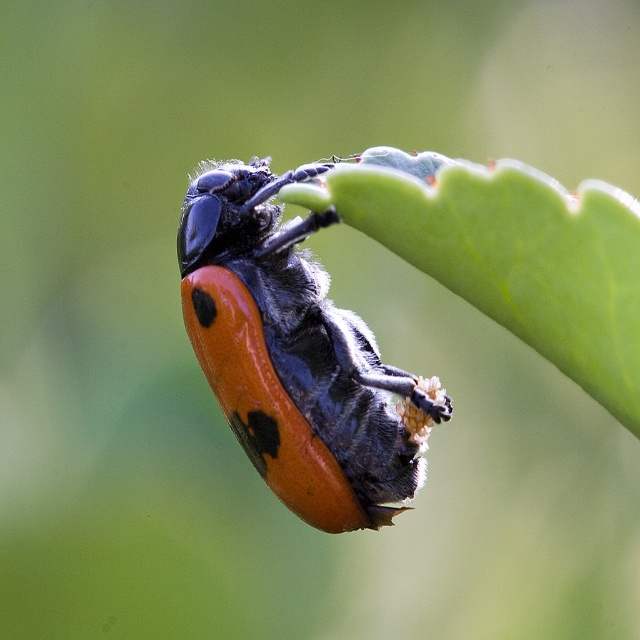Ladybug: (175, 144, 462, 532)
